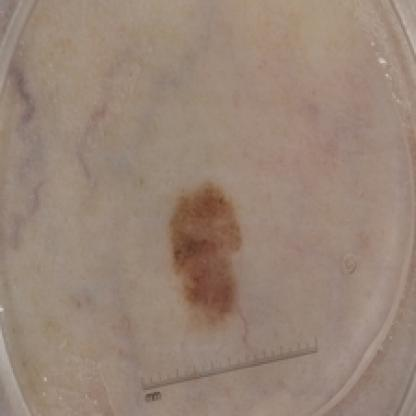Skin_Cancer-Malignant: (169, 176, 244, 326)
